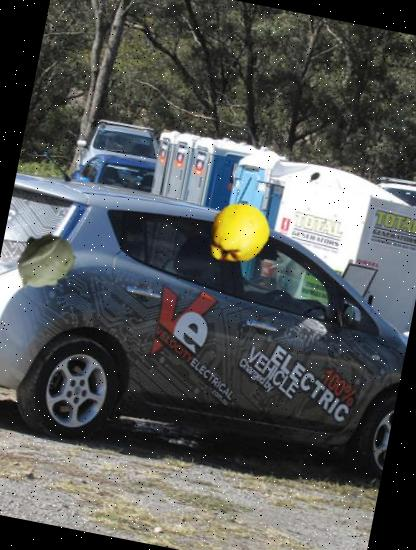Kohlrabi: (5, 223, 81, 299)
Quince: (198, 194, 278, 273)
